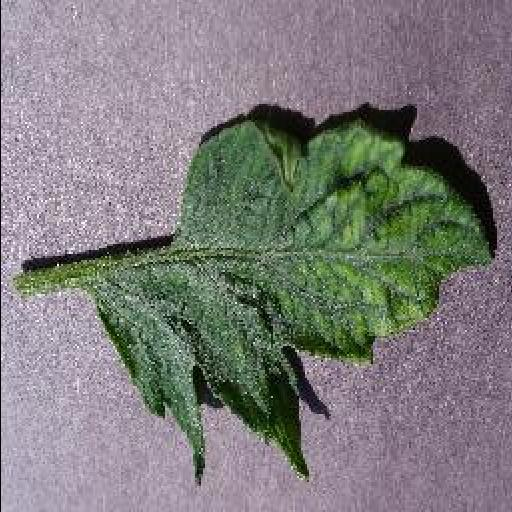Mosaic Virus: (86, 115, 500, 489)
